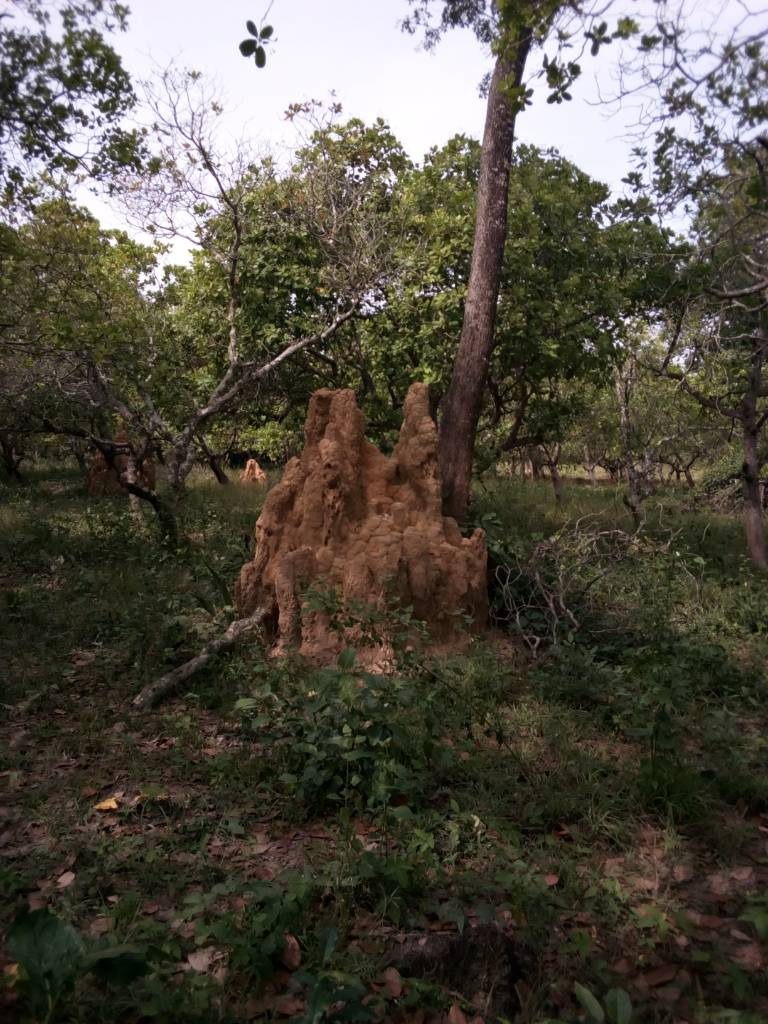Termites: (296, 389, 479, 646)
